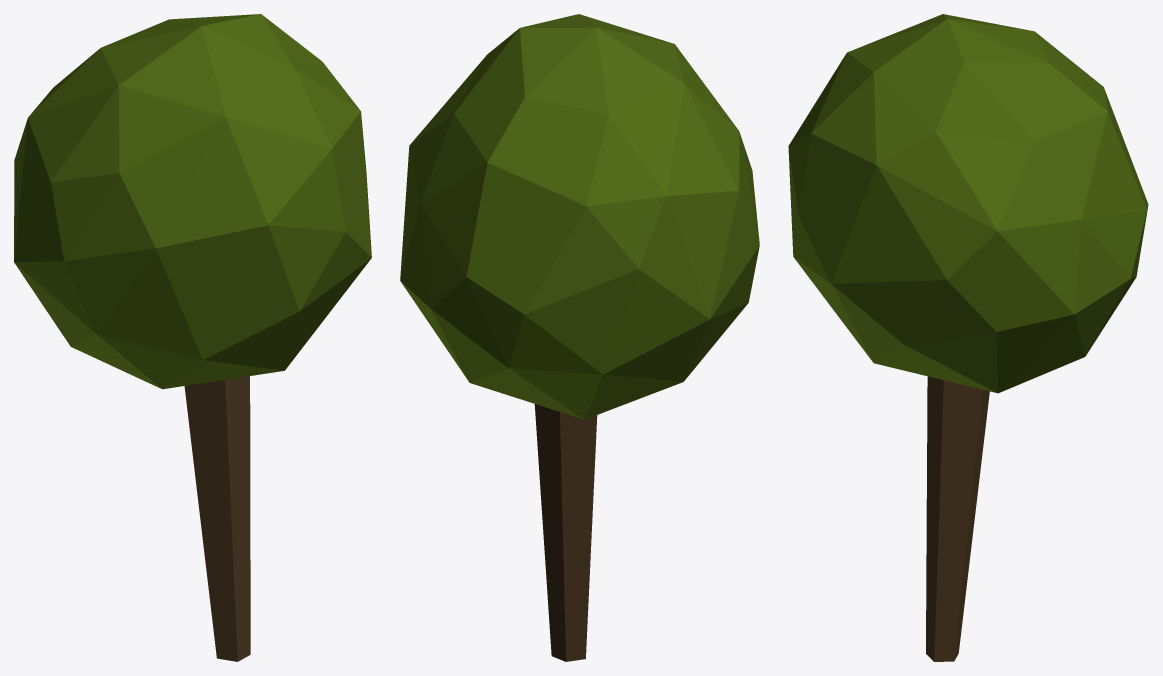
The model's file is TreesAndBushes_024.fbx.
3 renders of one model, left to right at view 1: azimuth 30°, elevation 25°; view 2: azimuth 150°, elevation 25°; view 3: azimuth 270°, elevation 25°, orthographic. The views are drawn at different scales.
Parts seen in each view (by area): view 1: TreesAndBushes_024; view 2: TreesAndBushes_024; view 3: TreesAndBushes_024.
Part boxes in pixels (<box>): TreesAndBushes_024: <box>14,14,371,661</box>; TreesAndBushes_024: <box>400,14,759,661</box>; TreesAndBushes_024: <box>788,14,1148,661</box>.
Size of the model in its own units: 25.33 by 48.73 by 25.53.
